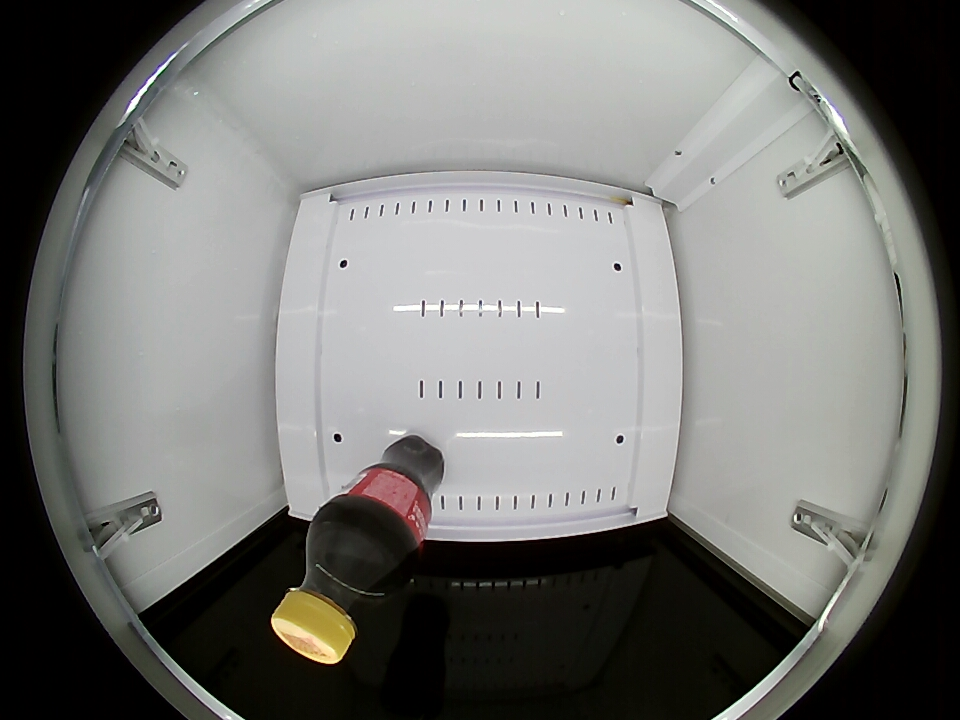kele-b-2: (271, 524, 405, 664)
